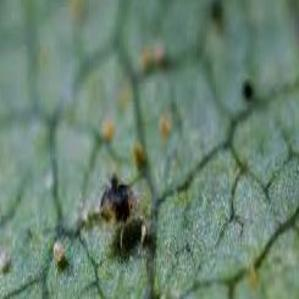spider mite: (52, 155, 176, 244)
